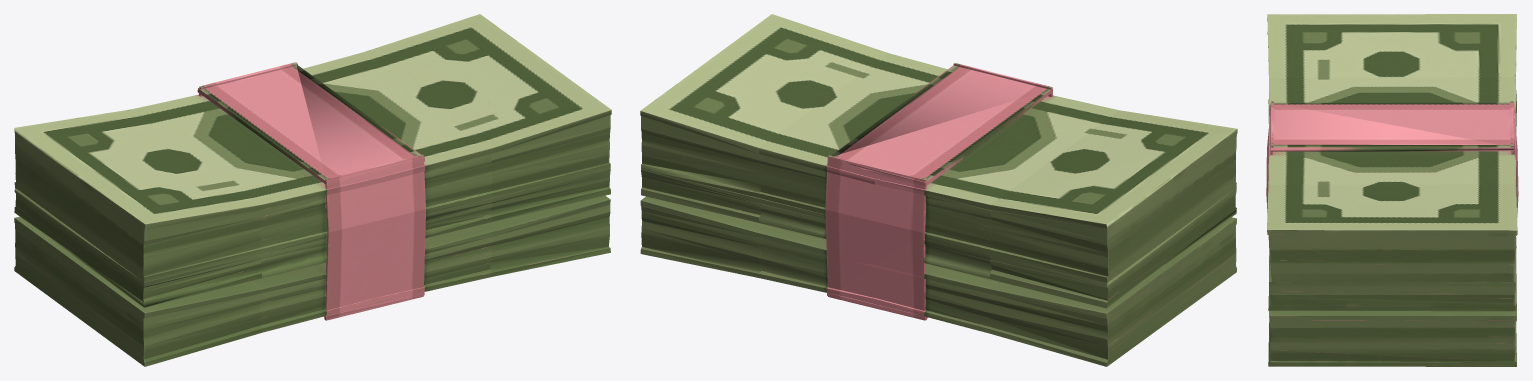
File: Meshy_AI_Cash_Bundle_0820173211_texture.obj
3 renders of one model, left to right at view 1: azimuth 30°, elevation 25°; view 2: azimuth 150°, elevation 25°; view 3: azimuth 270°, elevation 25°, orthographic. The views are drawn at different scales.
Parts seen in each view (by area): view 1: Meshy_AI_Cash_Bundle_0820173211_texture; view 2: Meshy_AI_Cash_Bundle_0820173211_texture; view 3: Meshy_AI_Cash_Bundle_0820173211_texture.
Part boxes in pixels (x1,y1,x2,y2): Meshy_AI_Cash_Bundle_0820173211_texture: [14, 14, 611, 366]; Meshy_AI_Cash_Bundle_0820173211_texture: [640, 14, 1237, 366]; Meshy_AI_Cash_Bundle_0820173211_texture: [1266, 14, 1518, 366].
Bounding box in the file's own units: 1 × 0.2949 × 0.4922.
Materials: 1 (1 with a texture image).
